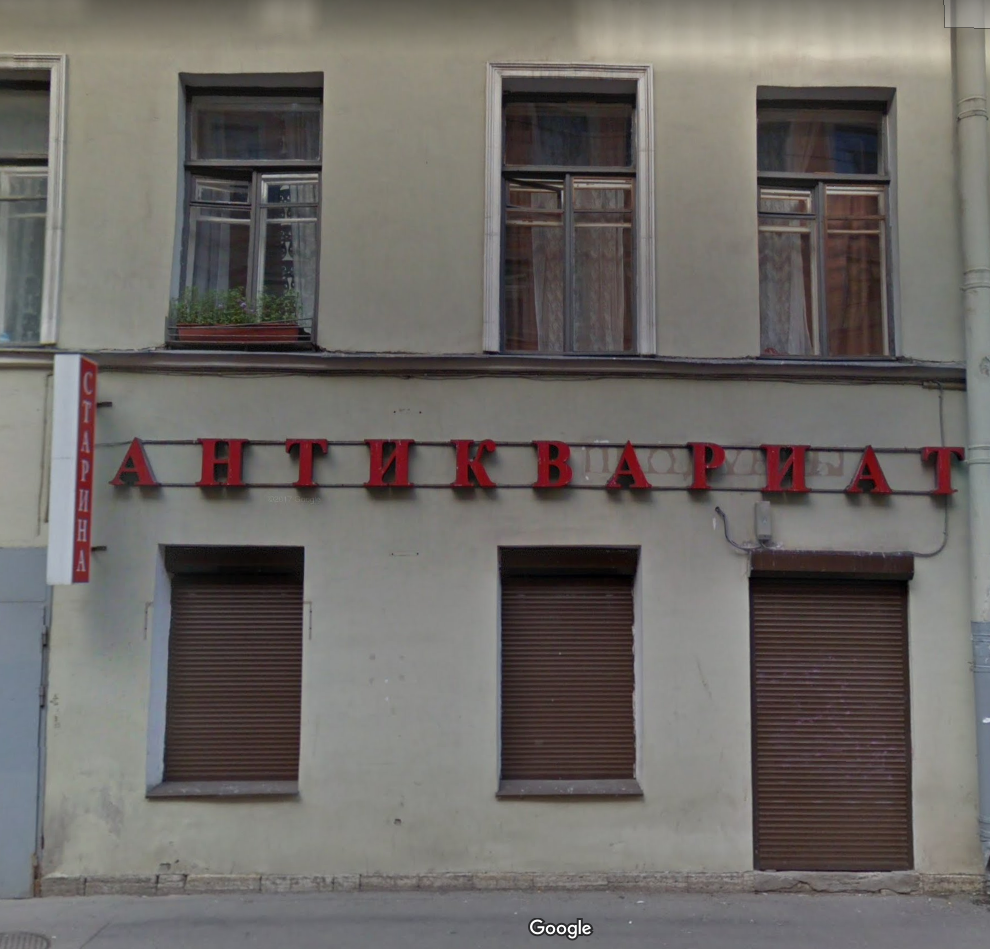cantilever: (38, 346, 114, 602)
door: (751, 552, 913, 878)
signboard: (106, 422, 976, 512)
window: (152, 545, 316, 797), (491, 83, 640, 357), (170, 79, 324, 336), (498, 544, 646, 798), (765, 99, 893, 353)
